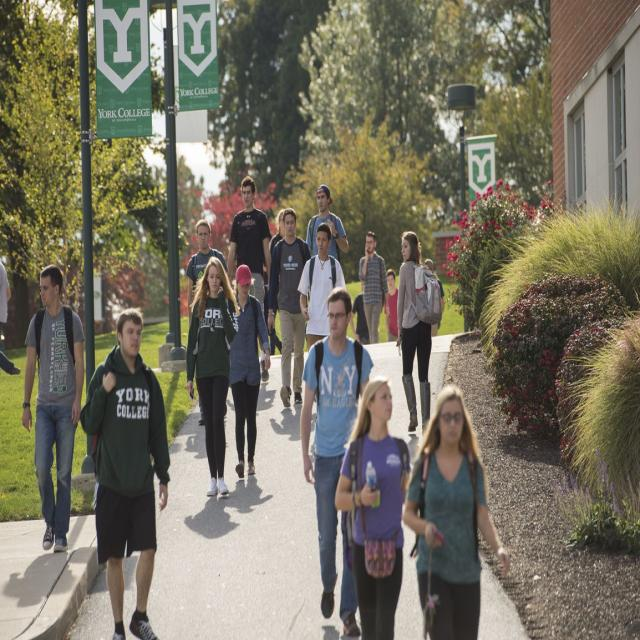body: (78, 306, 170, 639), (401, 384, 511, 639), (298, 284, 376, 639), (333, 374, 413, 639), (20, 262, 85, 552), (184, 255, 240, 496), (395, 229, 443, 447), (225, 174, 272, 383), (266, 206, 314, 408), (184, 217, 230, 426), (227, 263, 271, 479), (2, 548, 139, 606), (296, 222, 348, 354), (180, 473, 272, 539), (357, 229, 391, 344), (306, 184, 350, 262), (0, 258, 22, 376), (222, 379, 278, 418), (175, 422, 230, 461), (421, 256, 445, 338), (262, 263, 282, 355), (349, 279, 370, 345), (270, 409, 316, 439), (383, 268, 398, 342), (268, 206, 284, 256), (316, 623, 341, 639), (291, 339, 295, 356)
